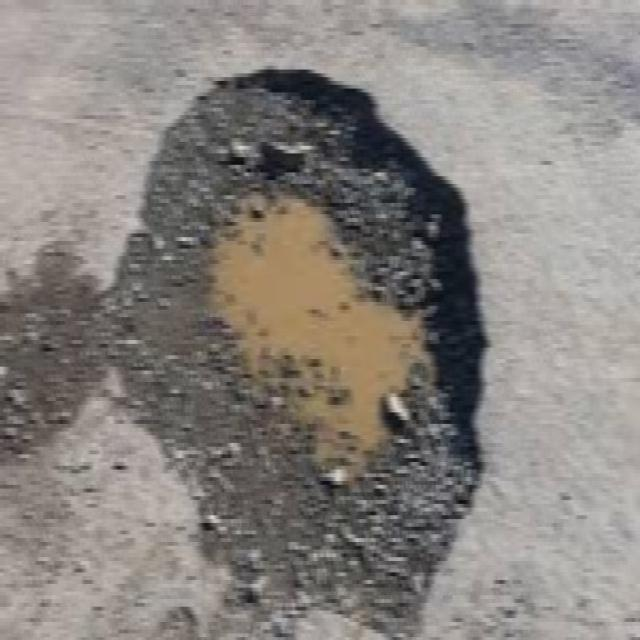Pothole: (115, 59, 494, 640)
